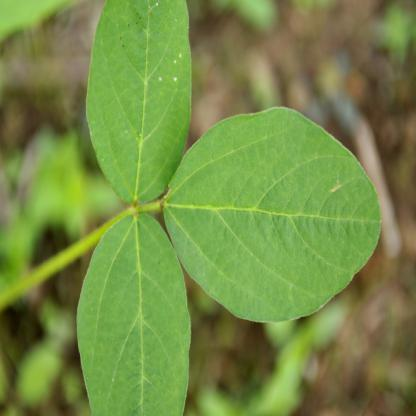Soyabean leaf: (162, 100, 385, 332), (74, 209, 196, 416), (82, 0, 198, 208)
